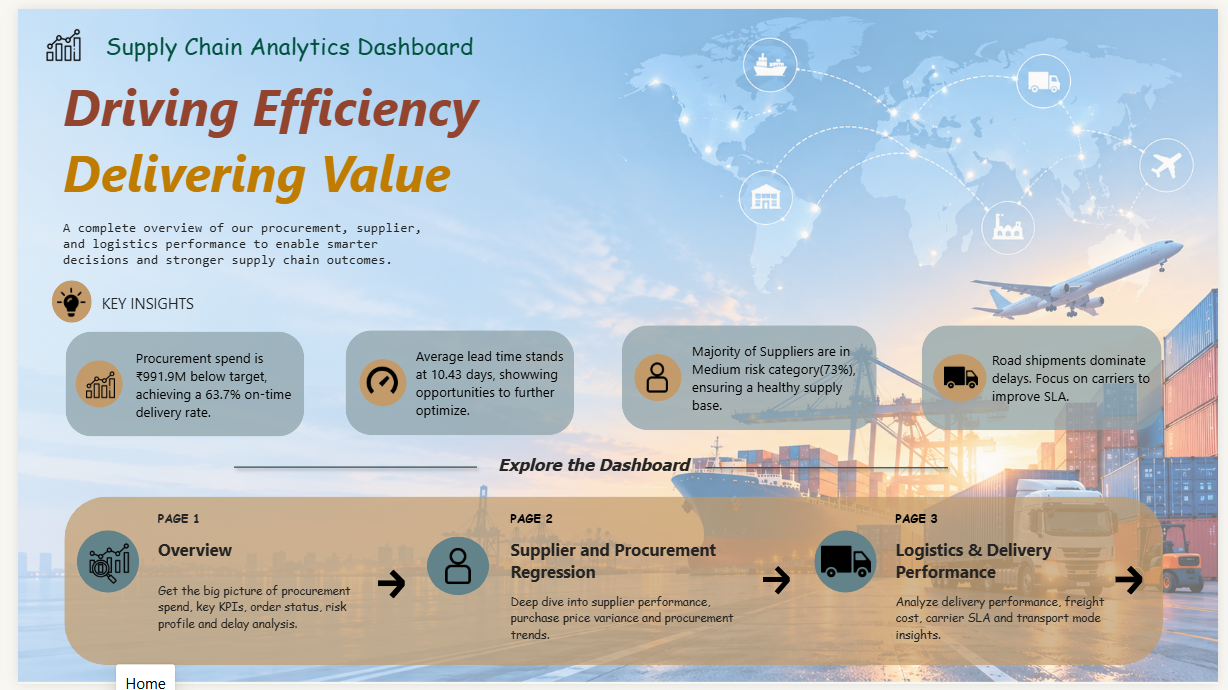

The page's visual inventory and layout, read from the dashboard file:
{"tool":"powerbi","page":{"name":"Home","canvas":[1920,1080],"ordinal":0},"visuals":[{"type":"textbox","box":[140,32,628,52],"z":0},{"type":"image","box":[32,30,81.7,55],"z":1000},{"type":"textbox","box":[72,100,876,236],"z":2000},{"type":"textbox","box":[72,336,590,98],"z":3000},{"type":"textbox","box":[133.2,454,154,38],"z":4000},{"type":"shape","box":[53.2,434,64,68],"z":5000},{"type":"shape","box":[76,516.4,382,168],"z":6000},{"type":"shape","box":[1446.4,505.2,384,168],"z":7000},{"type":"shape","box":[523.6,514.8,366,168],"z":8000},{"type":"shape","box":[966,505.2,408,168],"z":9000},{"type":"shape","box":[92,562.4,75.8,75.8],"z":10000},{"type":"shape","box":[986,551.2,75.8,75.8],"z":11000},{"type":"shape","box":[545.6,560.8,75.8,75.8],"z":12000},{"type":"shape","box":[1464.4,551.2,86,76],"z":13000},{"type":"image","box":[541.6,570.8,81.7,55],"z":14000},{"type":"image","box":[1468.4,561.2,81.7,55],"z":15000},{"type":"image","box":[92,578.4,80,46],"z":16000},{"type":"image","box":[982,561.2,81.7,55],"z":17000},{"type":"image","box":[47.2,446,74,46],"z":18000},{"type":"textbox","box":[767.6,712,366,44],"z":19000},{"type":"shape","box":[74.4,780,1758,270],"z":20000},{"type":"textbox","box":[224.4,802,346,224],"z":21000},{"type":"textbox","box":[788.4,802,382,236],"z":22000},{"type":"textbox","box":[1404.4,802,348,216],"z":23000},{"type":"shape","box":[335.6,722,408,22],"z":24000},{"type":"shape","box":[1089.6,716,408,36],"z":25000},{"type":"shape","box":[94.8,834,100,100],"z":26000},{"type":"shape","box":[654.8,843.2,100,94],"z":27000},{"type":"shape","box":[1274.4,834,100,100],"z":28000},{"type":"image","box":[1268.4,844,114,80],"z":29000},{"type":"image","box":[654.8,857.2,100,66],"z":30000},{"type":"image","box":[96.8,854,100,66],"z":31000},{"type":"actionButton","box":[534.4,882,124,76],"z":32000},{"type":"actionButton","box":[1150.4,876,124,76],"z":33000},{"type":"actionButton","box":[1714.4,876,124,76],"z":34000}]}

Visuals, with their boxes in screenshot pixels (x1, y1, x2, y2), scaled from the page's 1920x1080 canvas onto the 1228x690 screenshot:
textbox: Rect(90, 20, 491, 54)
image: Rect(20, 19, 73, 54)
textbox: Rect(46, 64, 606, 215)
textbox: Rect(46, 215, 423, 277)
textbox: Rect(85, 290, 184, 314)
shape: Rect(34, 277, 75, 321)
shape: Rect(49, 330, 293, 437)
shape: Rect(925, 323, 1171, 430)
shape: Rect(335, 329, 569, 436)
shape: Rect(618, 323, 879, 430)
shape: Rect(59, 359, 107, 408)
shape: Rect(631, 352, 679, 401)
shape: Rect(349, 358, 397, 407)
shape: Rect(937, 352, 992, 401)
image: Rect(346, 365, 399, 400)
image: Rect(939, 359, 991, 394)
image: Rect(59, 370, 110, 399)
image: Rect(628, 359, 680, 394)
image: Rect(30, 285, 78, 314)
textbox: Rect(491, 455, 725, 483)
shape: Rect(48, 498, 1172, 671)
textbox: Rect(144, 512, 365, 656)
textbox: Rect(504, 512, 749, 663)
textbox: Rect(898, 512, 1121, 650)
shape: Rect(215, 461, 476, 475)
shape: Rect(697, 457, 958, 480)
shape: Rect(61, 533, 125, 597)
shape: Rect(419, 539, 483, 599)
shape: Rect(815, 533, 879, 597)
image: Rect(811, 539, 884, 590)
image: Rect(419, 548, 483, 590)
image: Rect(62, 546, 126, 588)
actionButton: Rect(342, 564, 421, 612)
actionButton: Rect(736, 560, 815, 608)
actionButton: Rect(1097, 560, 1176, 608)
